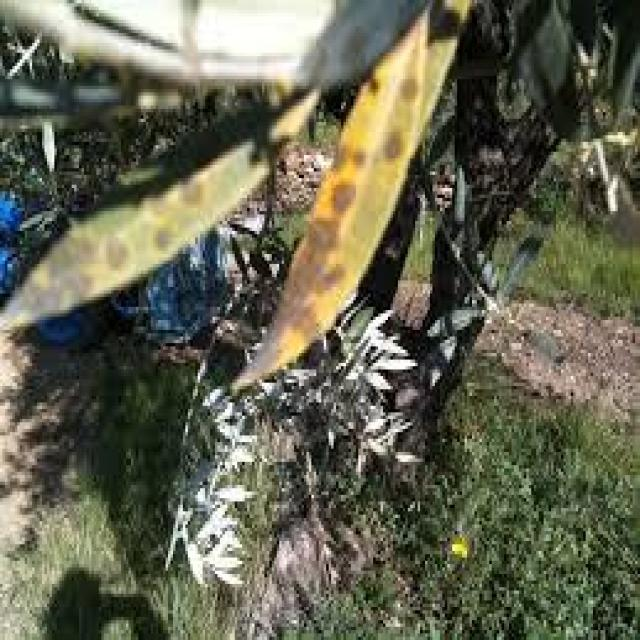Peacock Eye: (245, 10, 427, 373), (0, 142, 267, 327)
